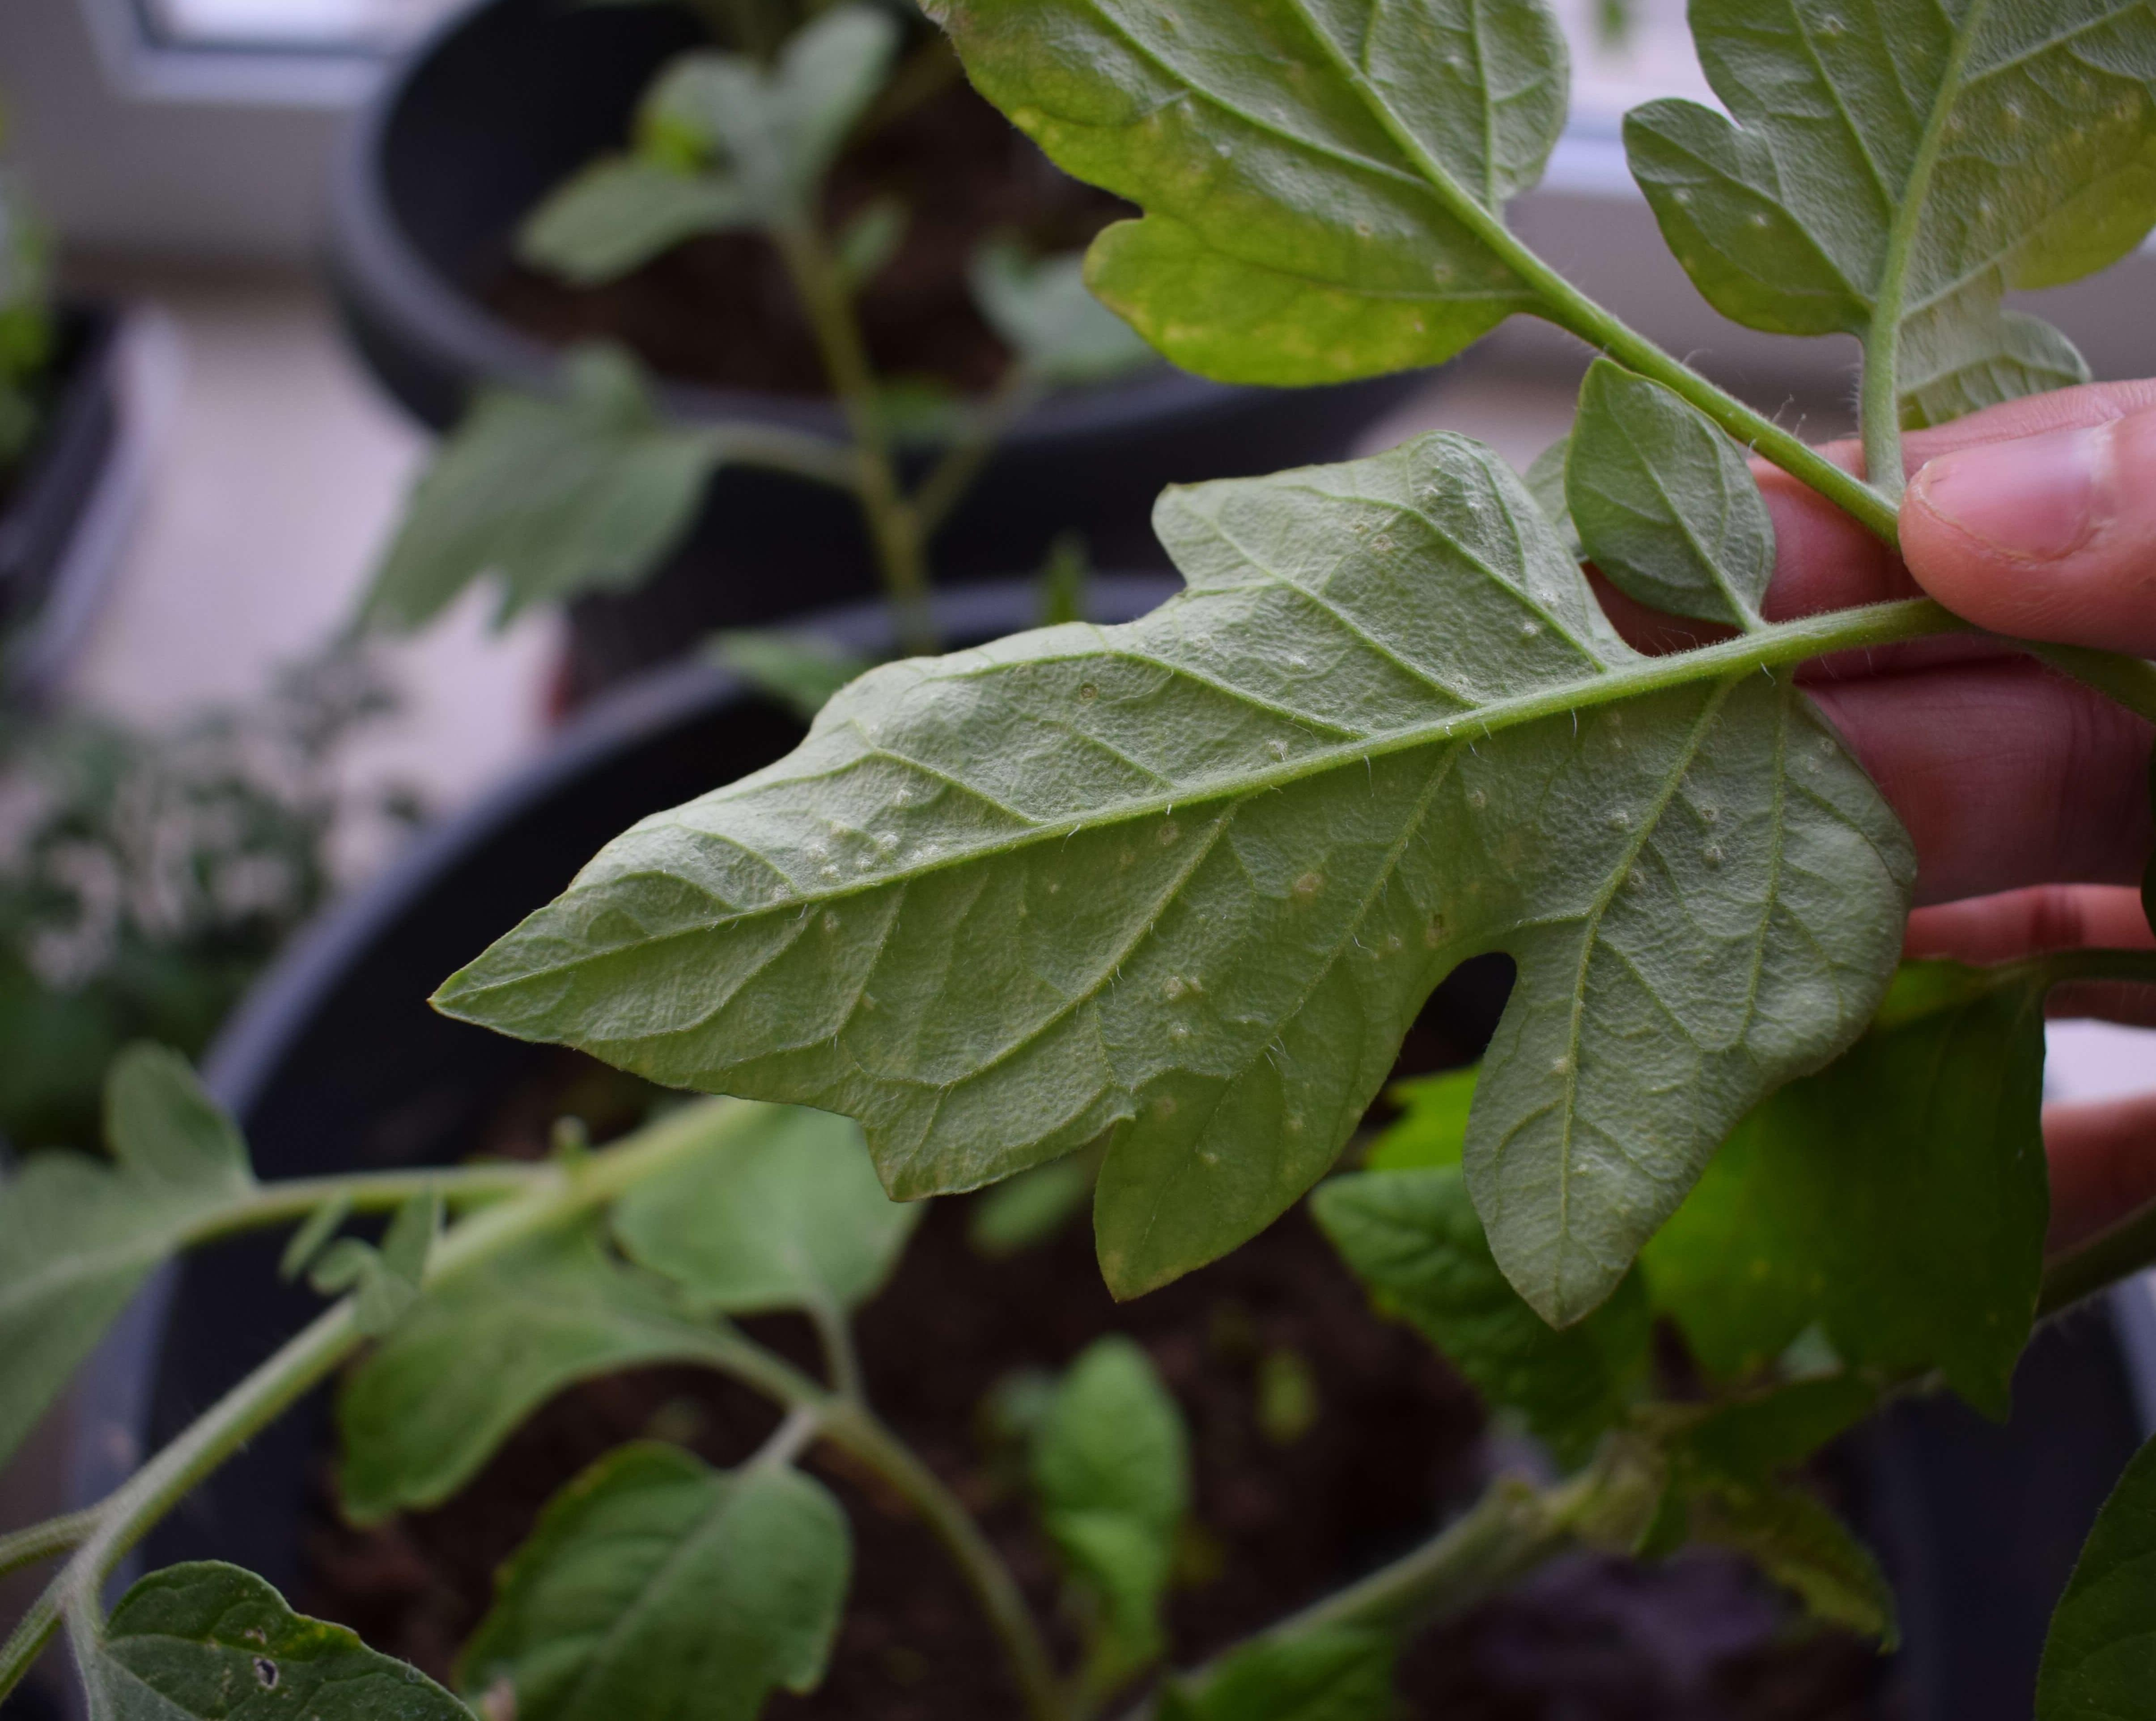Tomato mold leaf: (414, 443, 1872, 1328), (885, 0, 1570, 399), (1603, 0, 2156, 295), (432, 1433, 890, 1721)
